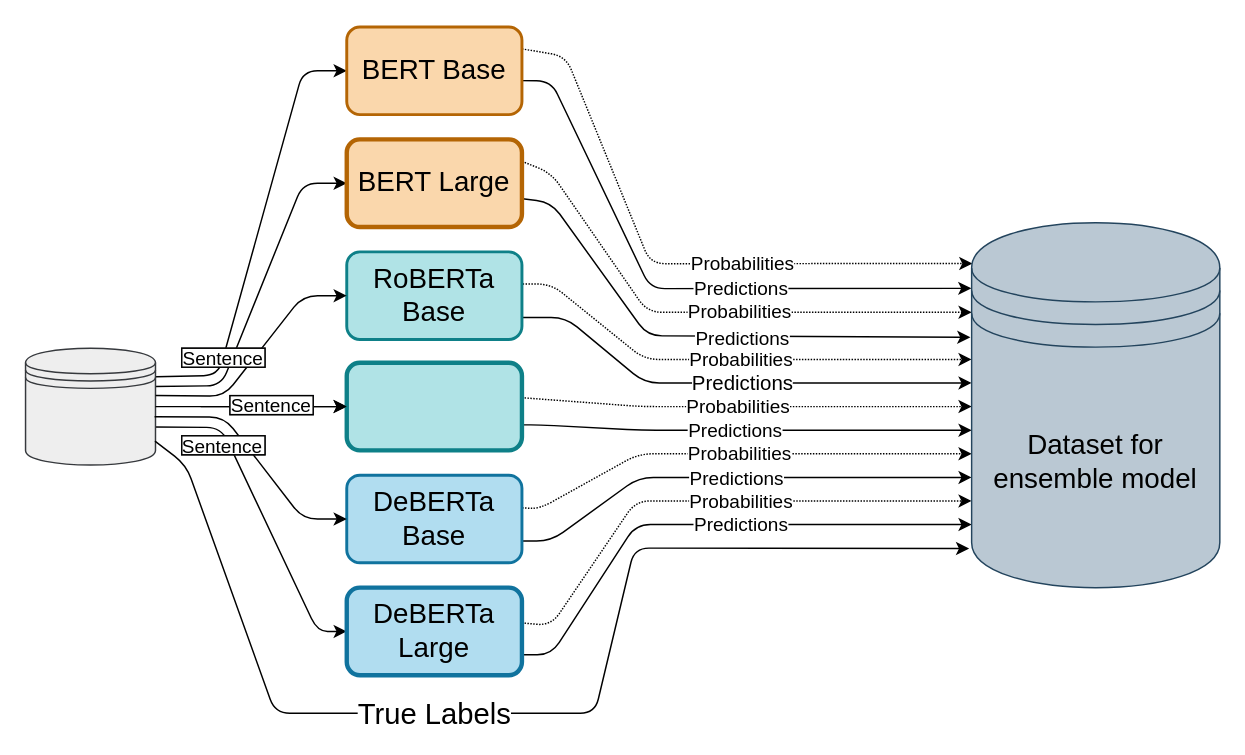
The diagram is 1245 pixels wide and 755 high, and some of its shapes have lost their labels. The box of each missing label's shape, as (x1, y1, x2, y2) in pixels:
RoBERTa Large: (344, 360, 523, 452)
Validation Dataset: (24, 347, 155, 465)
